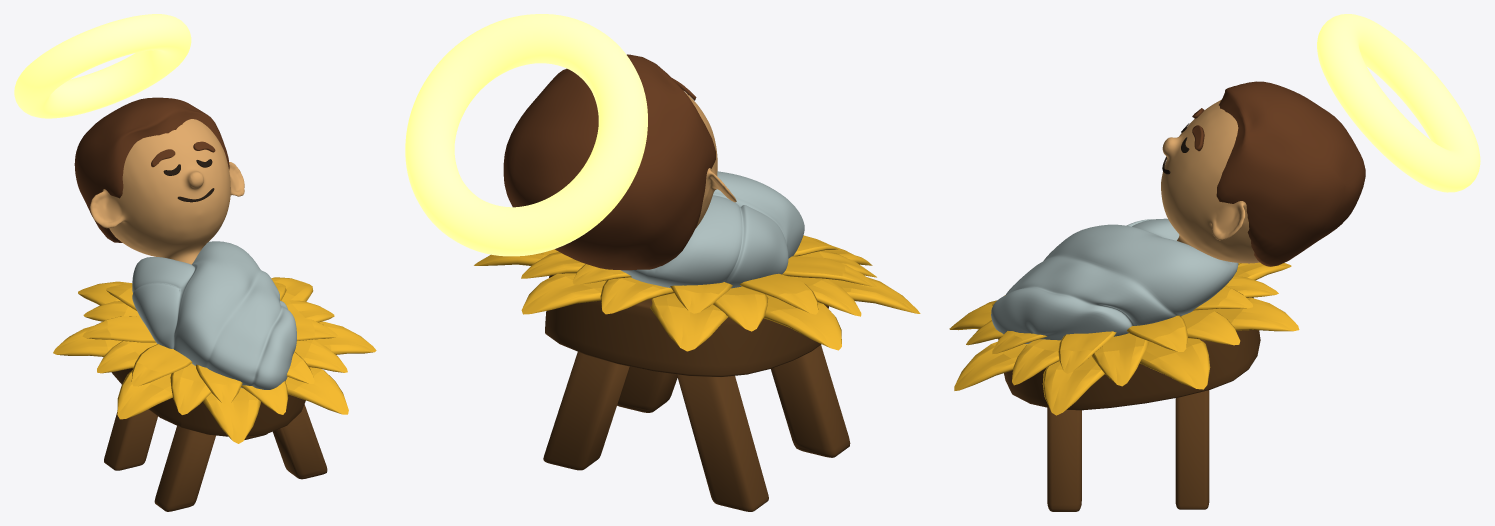
The model's file is BebeJesus.glb.
3 views of the same model, side by side, from view 1: azimuth 30°, elevation 25°; view 2: azimuth 150°, elevation 25°; view 3: azimuth 270°, elevation 25° (orthographic). The views are drawn at different scales.
Parts seen in each view (by area): view 1: aureora.004, aureora.005; view 2: aureora.004, aureora.005; view 3: aureora.004, aureora.005.
Boxes of the visible parts, x1,y1,x2,y2 form: aureora.004: [53, 97, 376, 511]; aureora.005: [14, 14, 191, 118]; aureora.004: [474, 54, 920, 511]; aureora.005: [405, 14, 647, 256]; aureora.004: [949, 81, 1365, 511]; aureora.005: [1317, 14, 1480, 192].
Size of the model in its own units: 0.5706 by 0.7844 by 0.8522.
